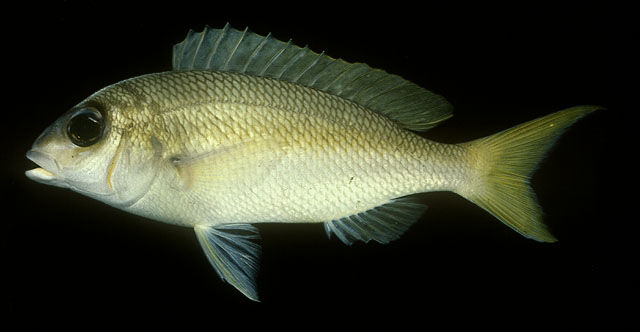fish: (25, 23, 598, 302)
